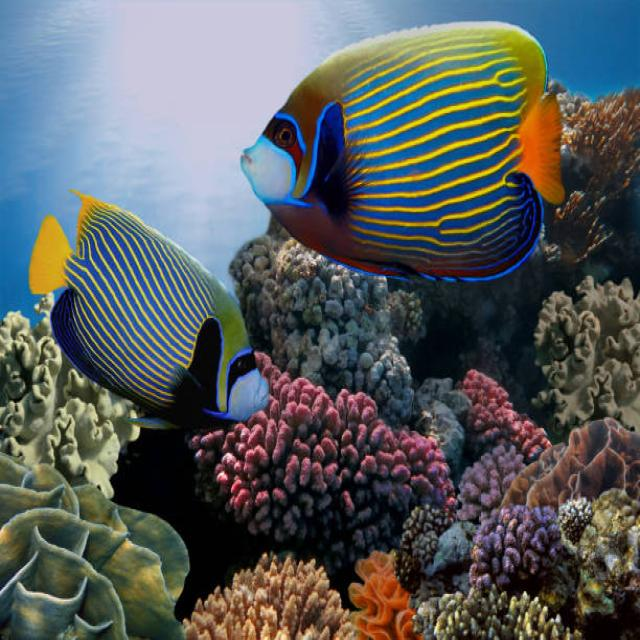AngelFish: (243, 22, 569, 285), (28, 187, 273, 423)
